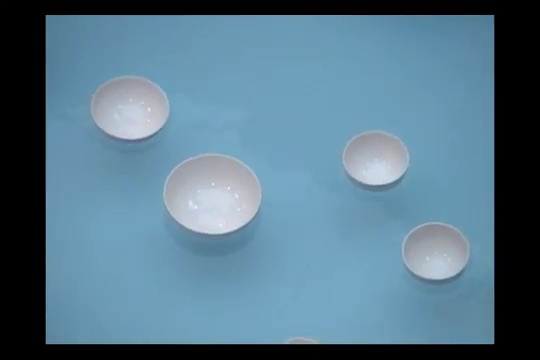bowl: (163, 153, 261, 241), (89, 75, 170, 144), (401, 222, 470, 284), (342, 131, 409, 191)
